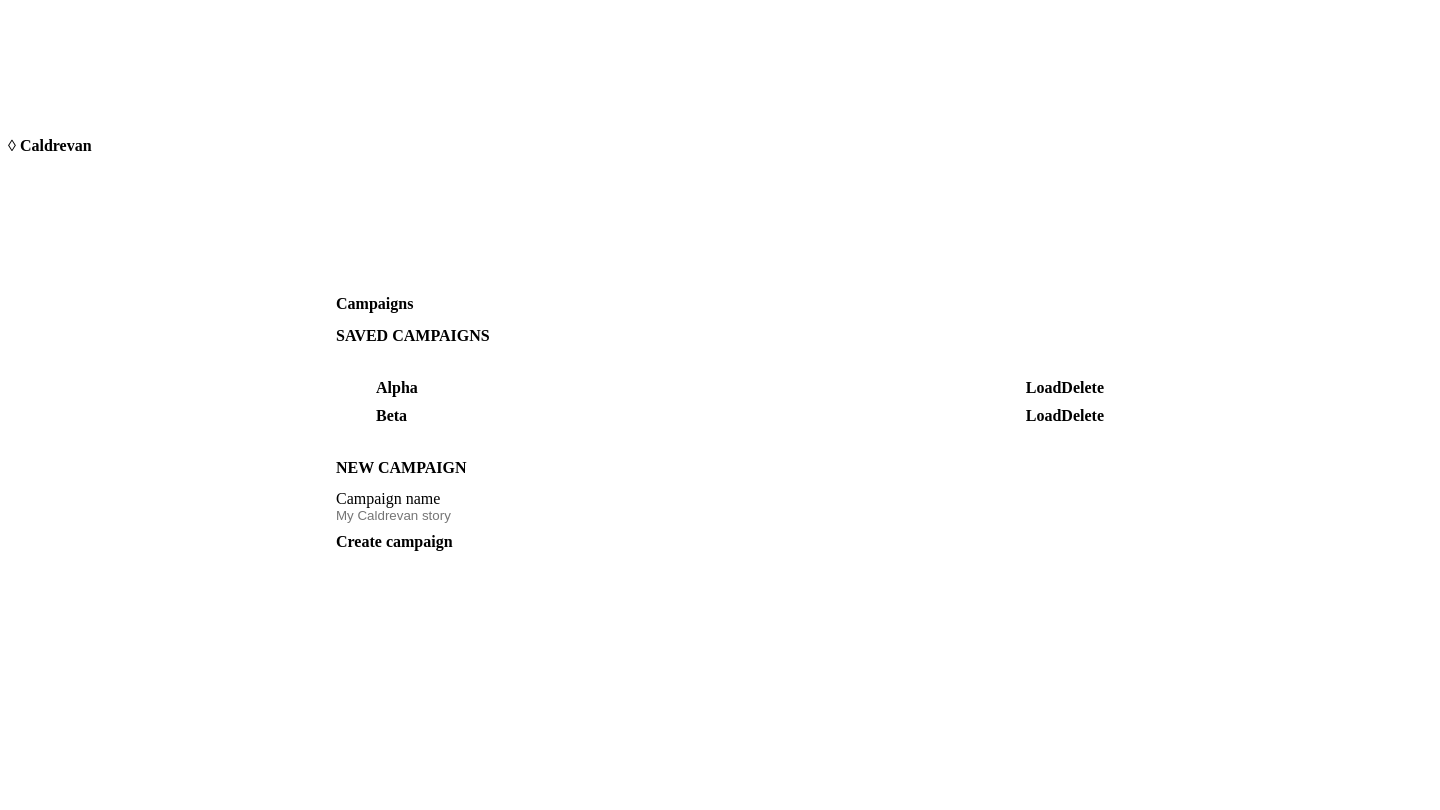
Test case: Campaigns page › confirming deletes through the server and refreshes the list
Step 1. Click the button with aria-label "Delete campaign Alpha" → (1083, 388), box [1061,374,1104,402]
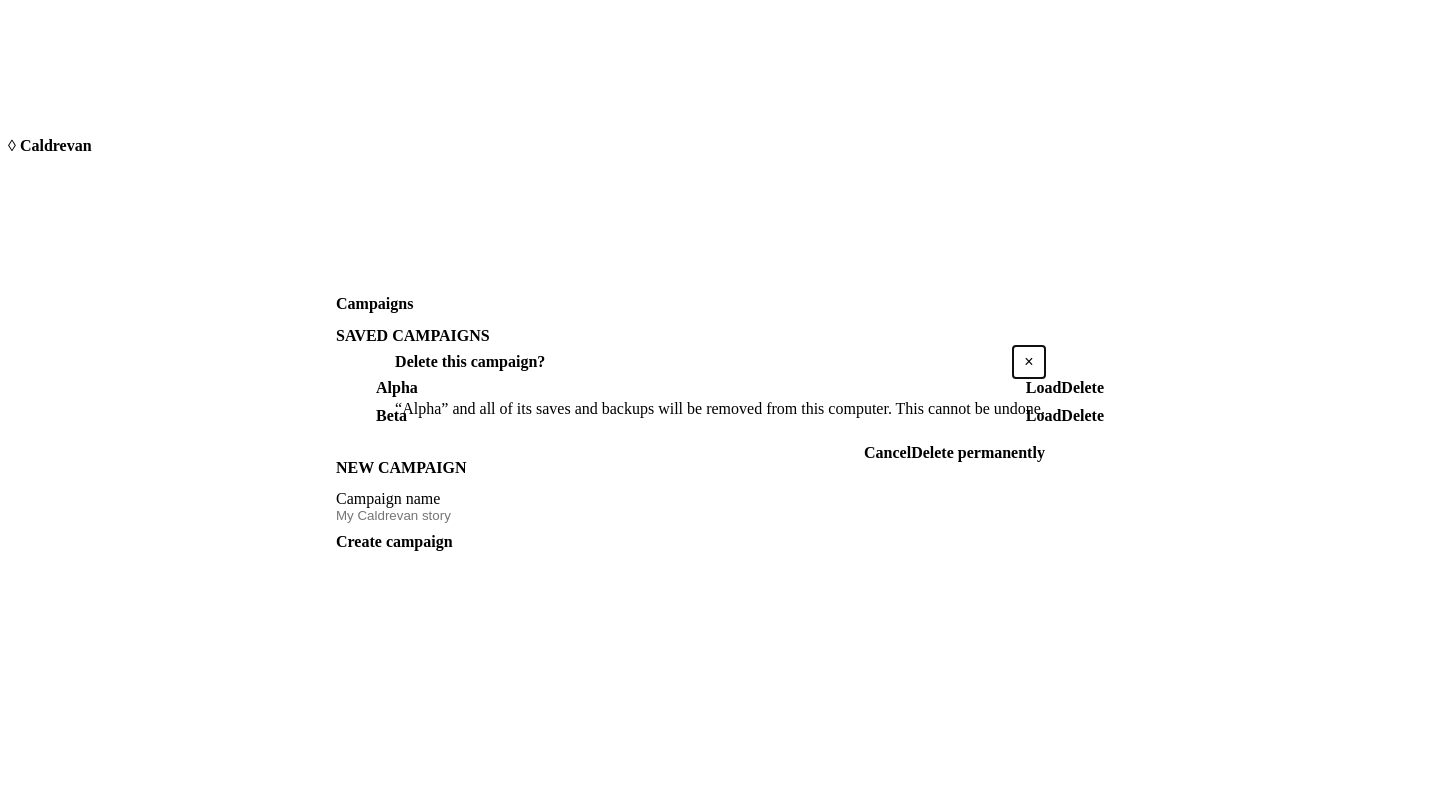
Step 2. Click the button "Delete permanently" → (978, 452), box [911,434,1045,470]
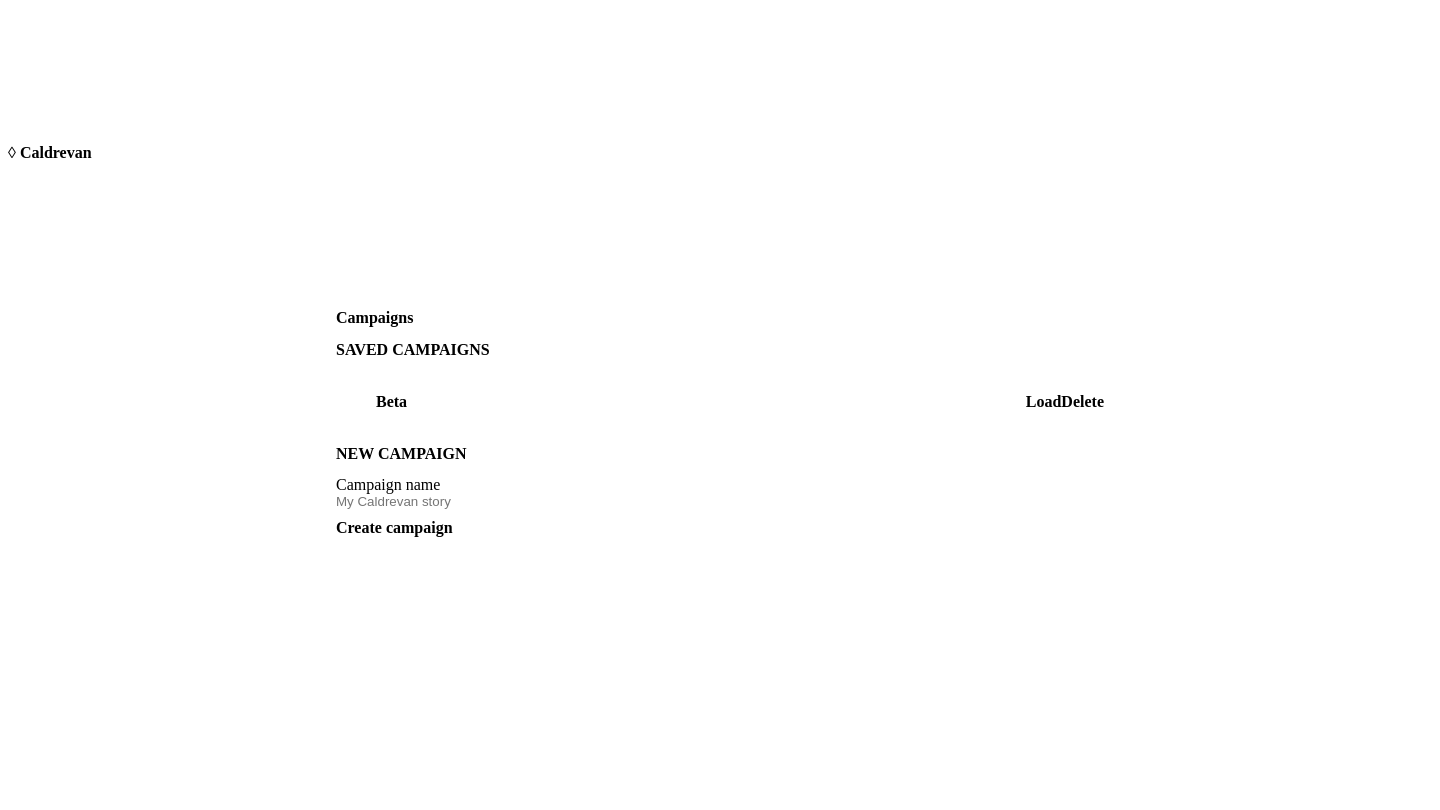
Expected: the text "Beta" is shown, [376,393,407,411]
Now the text "Alpha" is gone
